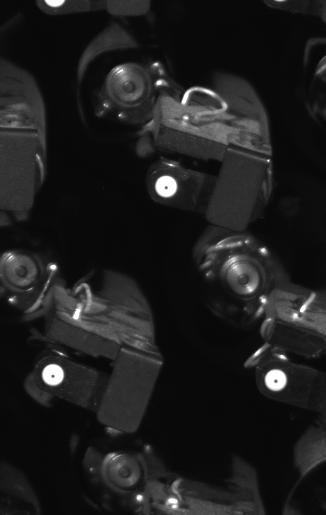fiber: (37, 355, 73, 395), (146, 168, 184, 205), (260, 366, 296, 399)
